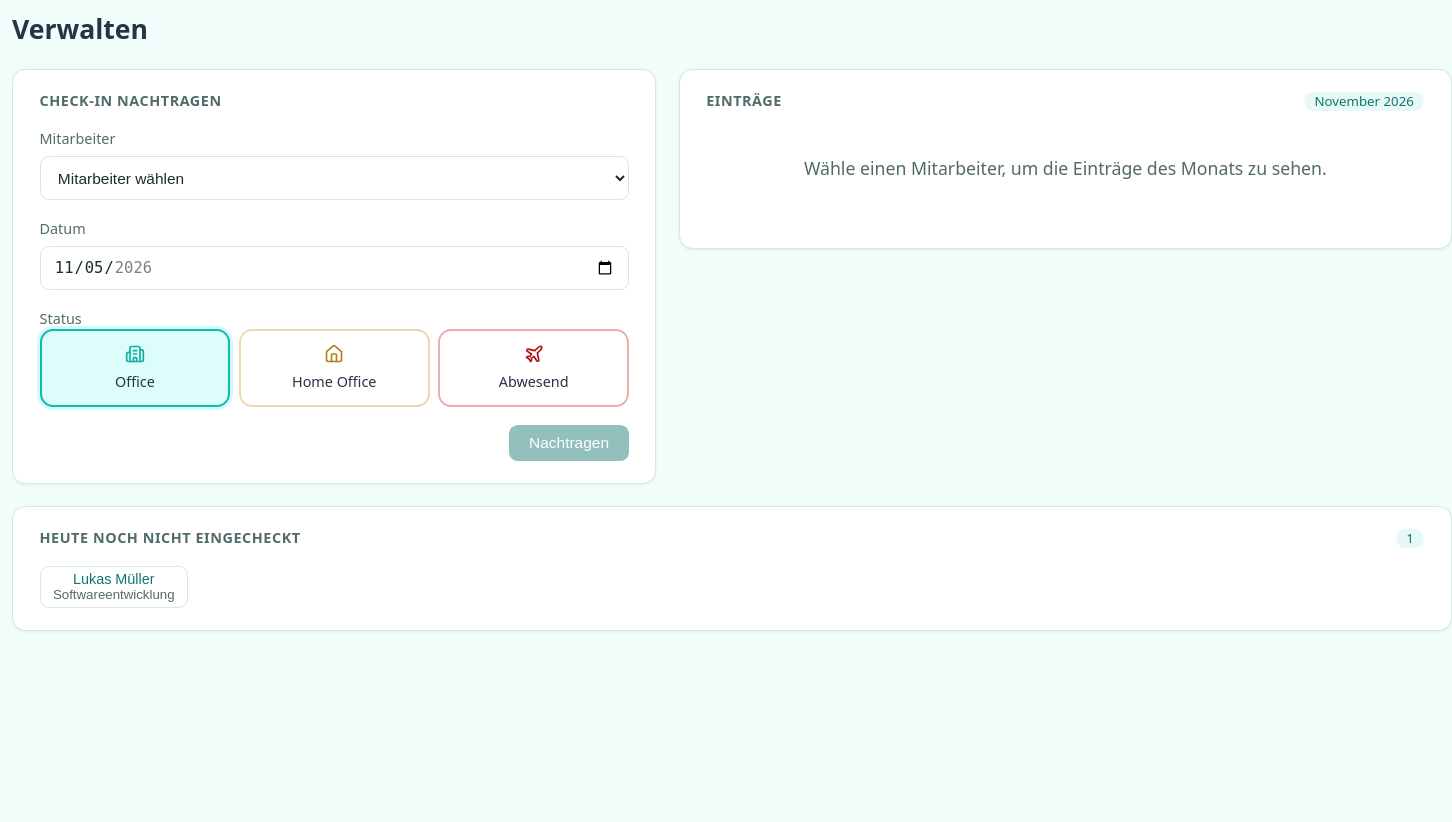
Test: Manage page: entries of the month › shows an empty state when the month has no entries
Select "Anna Adler" in the dropdown: coordinates (334, 178) x1=40 y1=156 x2=629 y2=200
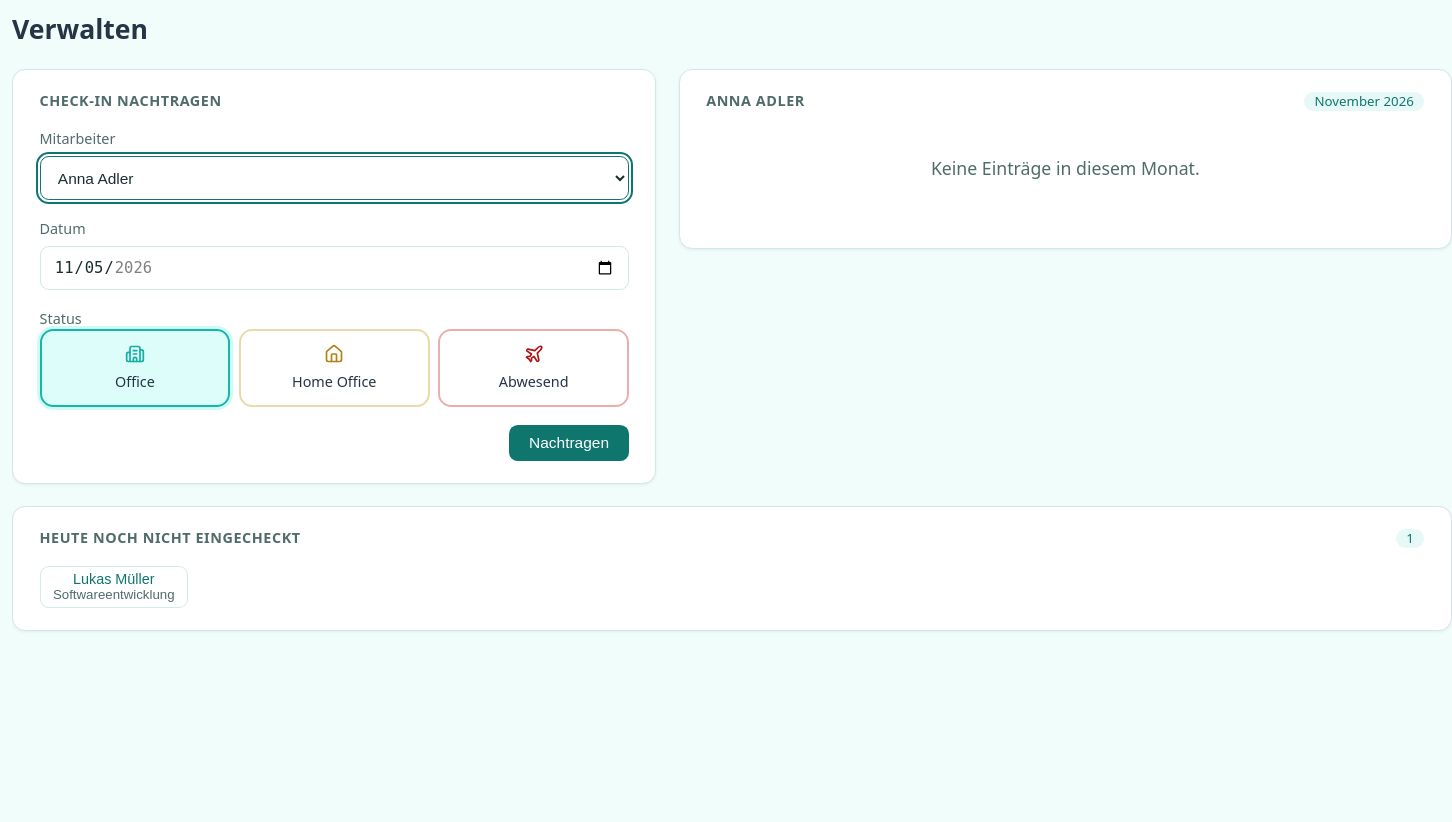
Result: the text "Keine Einträge in diesem Monat." is shown at x1=931 y1=156 x2=1200 y2=180
